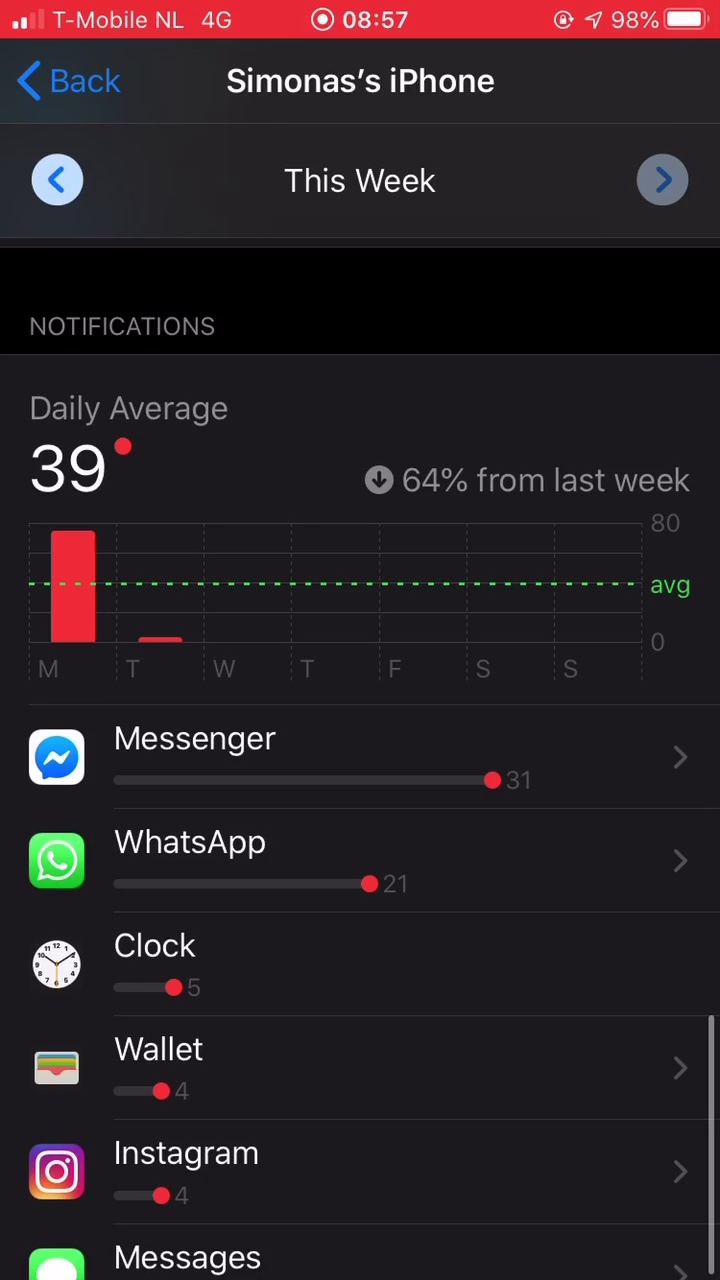not_app: (21, 705, 554, 803), (20, 814, 434, 913), (20, 1124, 297, 1214), (20, 1022, 273, 1113), (21, 919, 248, 1009)
not_over: (12, 292, 273, 510)
week: (273, 154, 448, 203)
